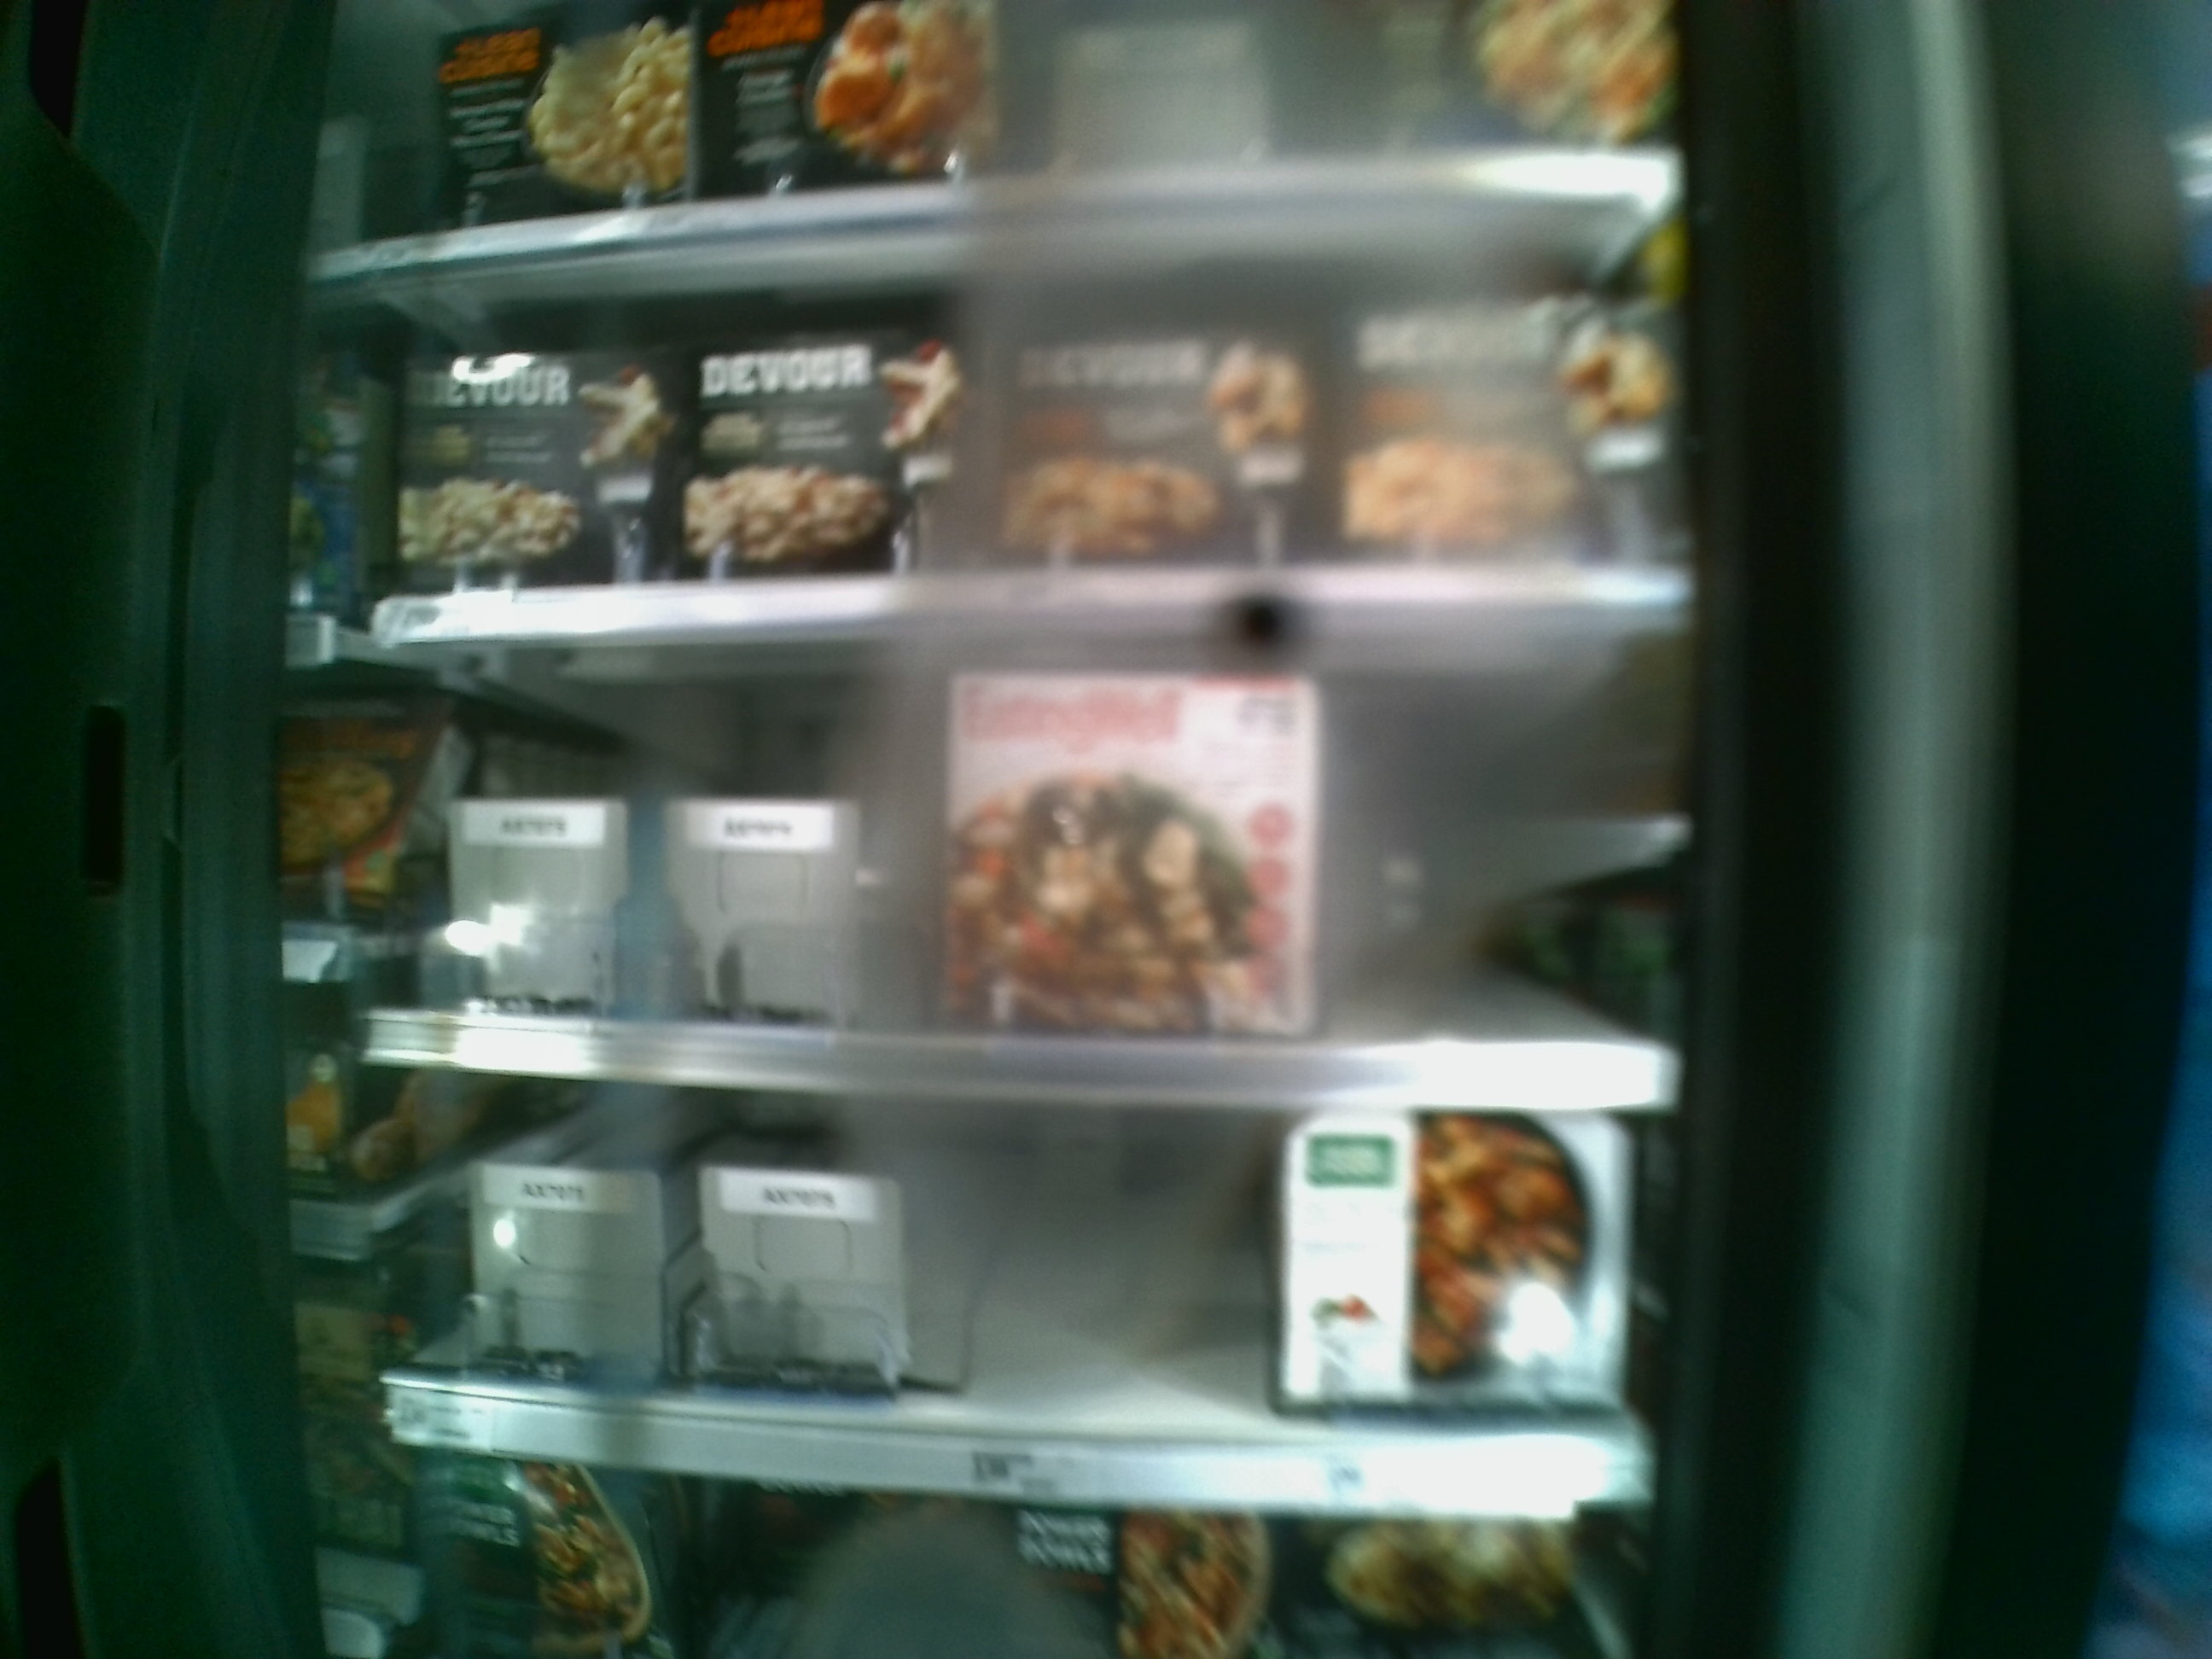Shelf: (380, 619, 1696, 1105), (350, 185, 1691, 647), (359, 1060, 1655, 1520)
